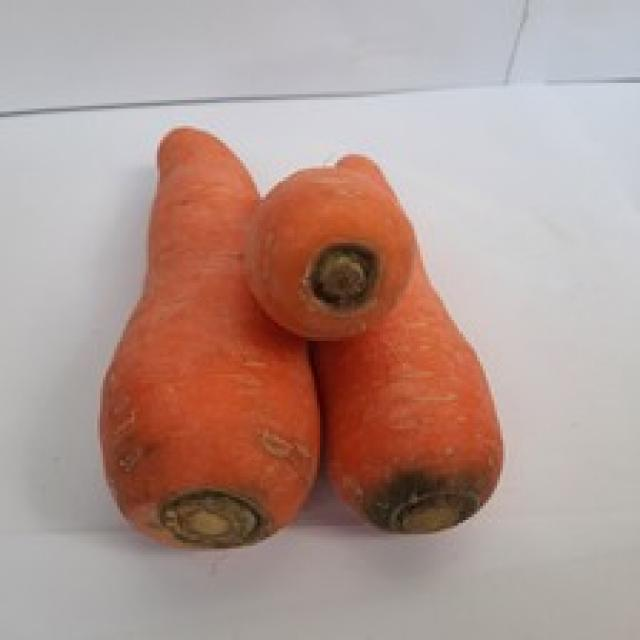carrot: (73, 120, 323, 549), (330, 151, 503, 537), (244, 161, 424, 346)
